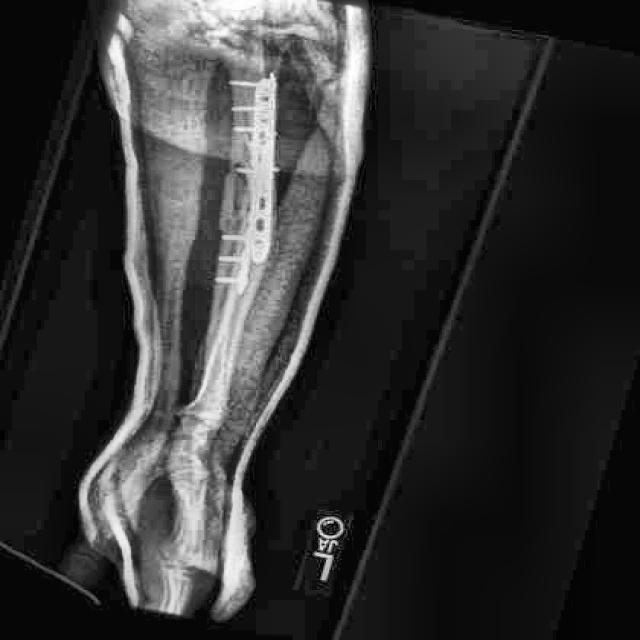forearm fracture: (193, 156, 263, 263)
